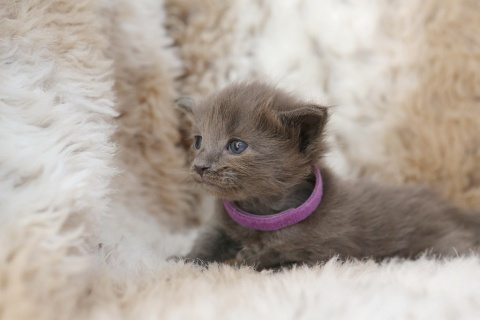Cat: (170, 76, 478, 272)
